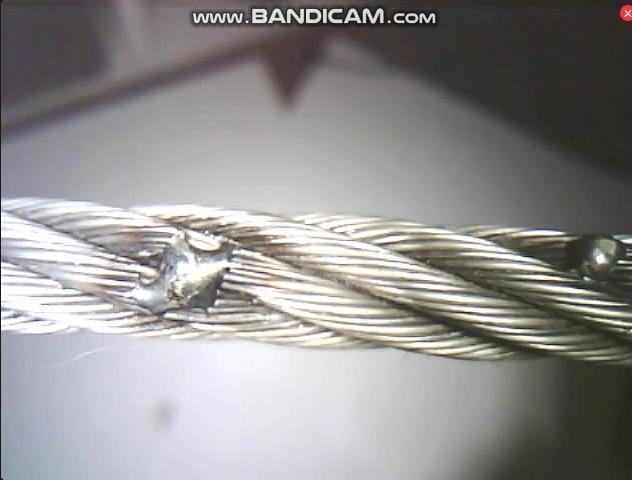thunderbolt: (139, 234, 255, 315), (562, 218, 623, 286)
